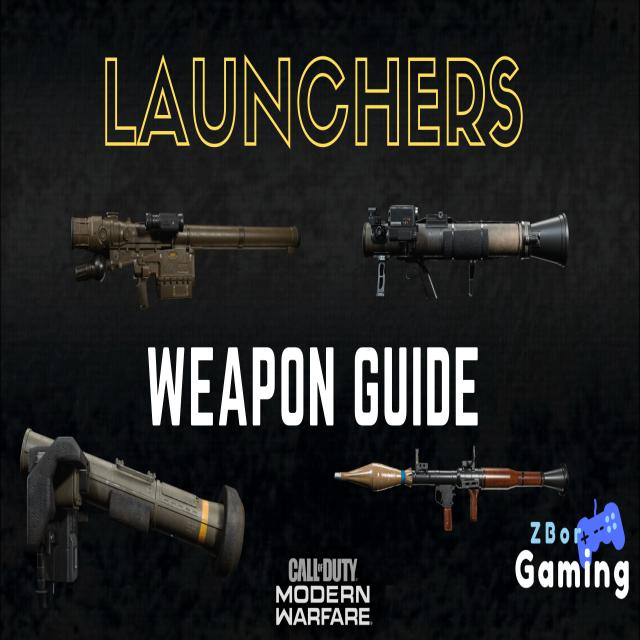bazooka: (8, 407, 258, 602), (66, 190, 303, 328), (355, 188, 579, 318), (330, 439, 570, 539)
